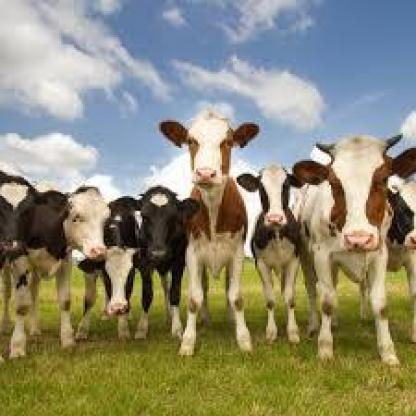cow: (294, 138, 416, 369), (158, 114, 258, 354), (26, 186, 111, 350), (238, 164, 306, 344), (134, 184, 201, 341), (76, 204, 146, 343), (0, 169, 37, 360), (382, 180, 415, 341)
